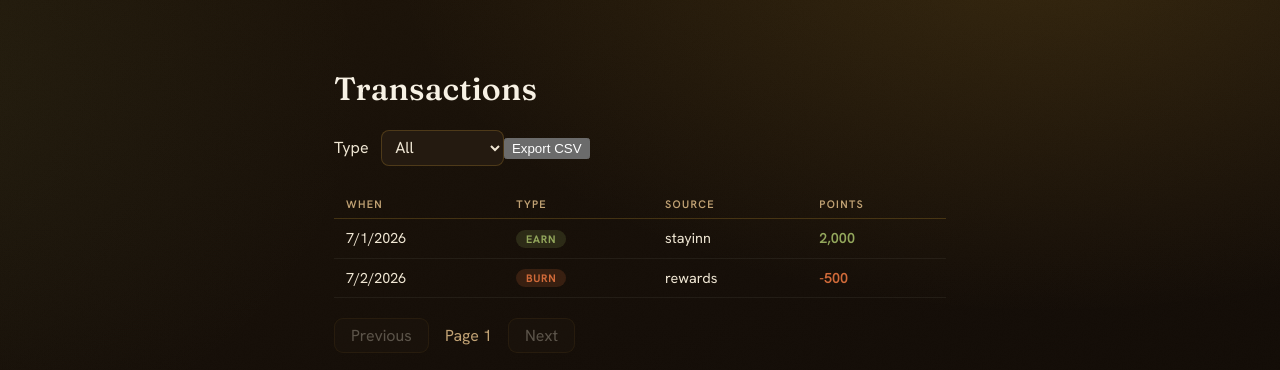
Test: the type filter is a server-side query variable
This screenshot has width=1280, height=370.
Expected: the text "stayinn" is shown, left=653, top=219, right=807, bottom=258
Select "Earn" in the dropdown labelled "Type" at coordinates (442, 148), box left=381, top=130, right=504, bottom=166
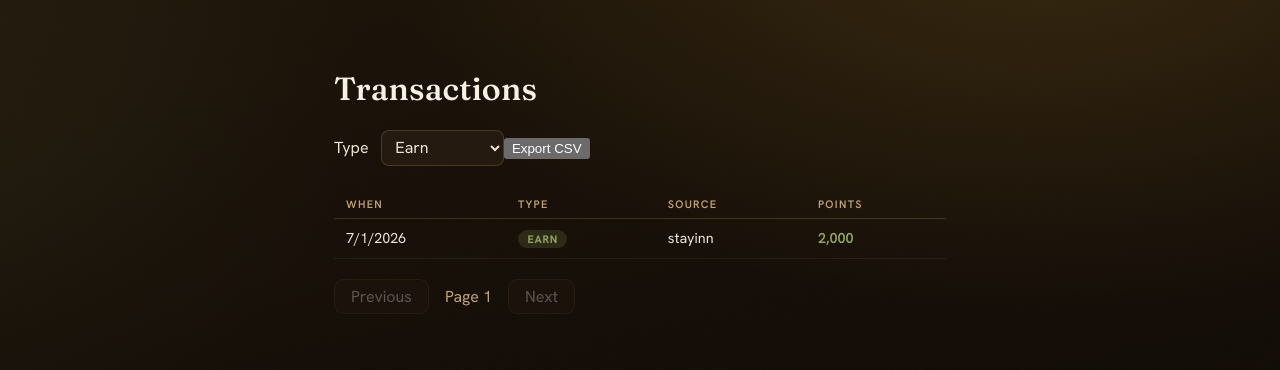
Expected: the text "stayinn" is shown, left=656, top=219, right=806, bottom=258
Result: the text "rewards" is gone
